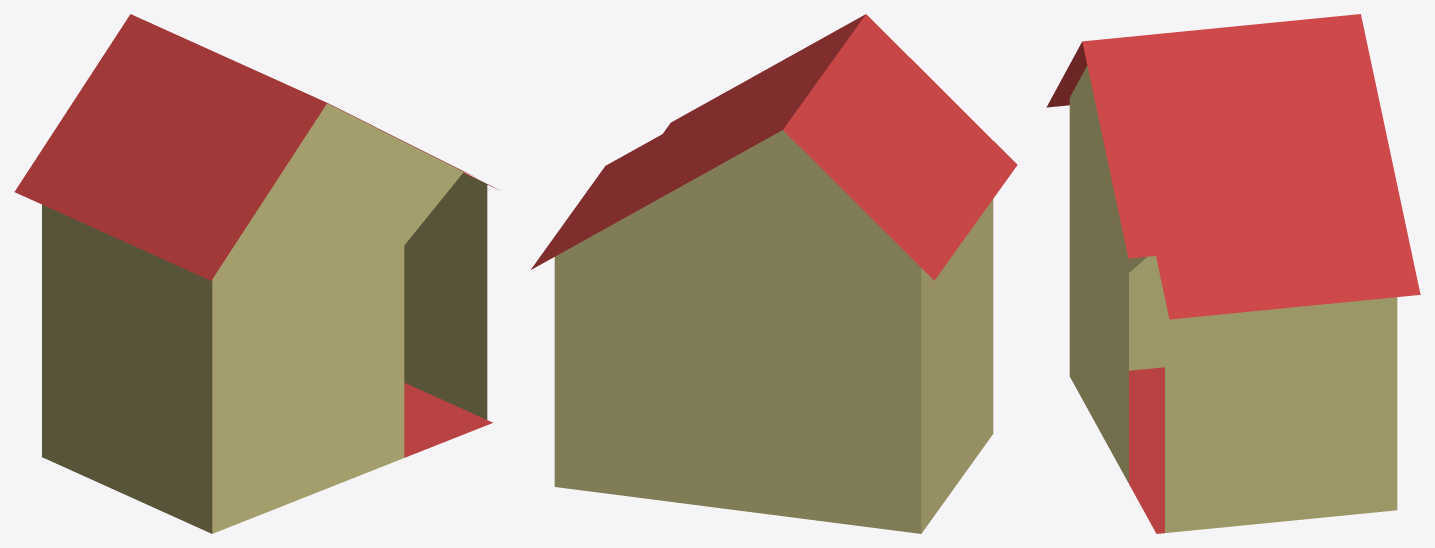
The picture shows the model from 3 angles, left to right: view 1: azimuth 30°, elevation 25°; view 2: azimuth 150°, elevation 25°; view 3: azimuth 270°, elevation 25°; orthographic projection.
Bounding box in the file's own units: 12.03 × 9.61 × 11.16.
